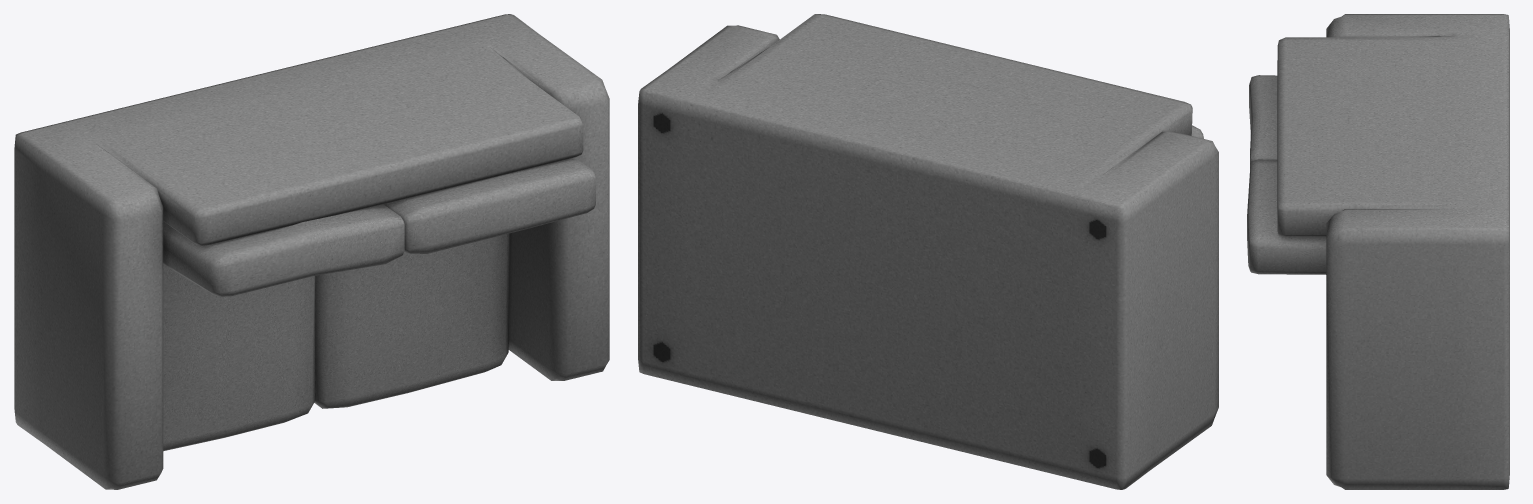
Rendered from Sofa.obj.
The picture shows the model from 3 angles, left to right: view 1: azimuth 30°, elevation 25°; view 2: azimuth 150°, elevation 25°; view 3: azimuth 270°, elevation 25°; orthographic projection. The views are drawn at different scales.
Visible parts, largest first — view 1: Sofa_Sofa_Cylinder.014; view 2: Sofa_Sofa_Cylinder.014; view 3: Sofa_Sofa_Cylinder.014.
Boxes of the visible parts, x1=… form: Sofa_Sofa_Cylinder.014: x1=14, y1=14, x2=609, y2=489; Sofa_Sofa_Cylinder.014: x1=638, y1=14, x2=1218, y2=489; Sofa_Sofa_Cylinder.014: x1=1247, y1=14, x2=1509, y2=489.
Bounding box in the file's own units: 1.8 × 1.04 × 0.9427.
Materials: 1 (1 with a texture image).
